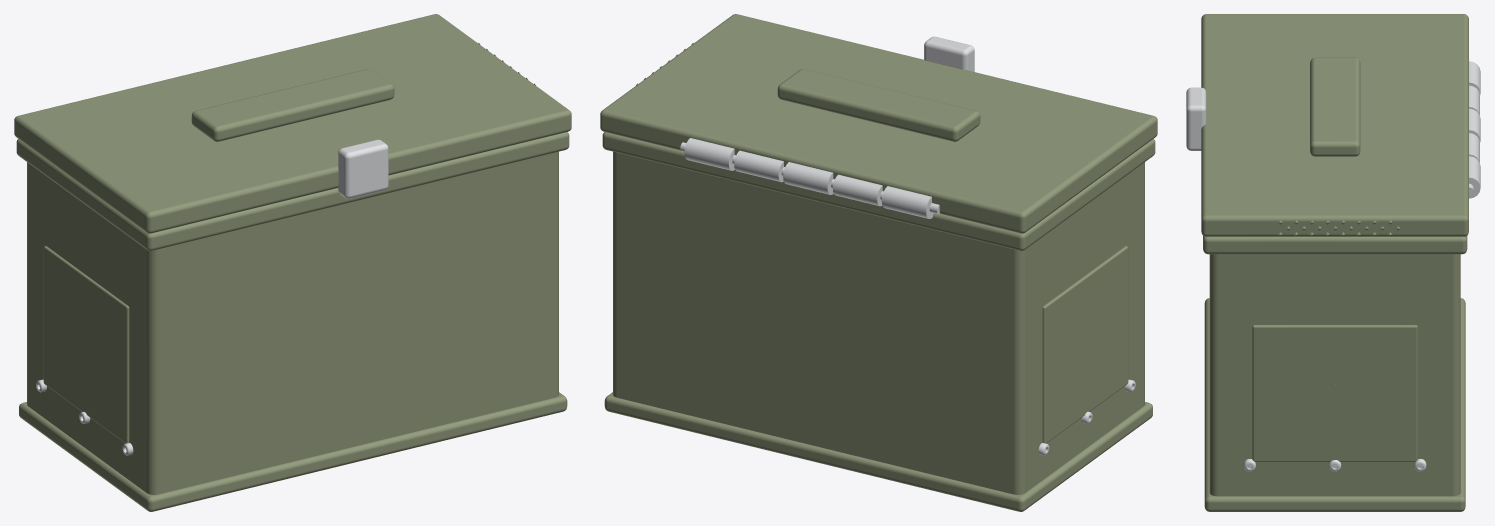
The model's file is mega-weapon-pack-rifle-ammo-box-2a33d364__33420.glb.
3 views of the same model, side by side, from view 1: azimuth 30°, elevation 25°; view 2: azimuth 150°, elevation 25°; view 3: azimuth 270°, elevation 25° (orthographic).
Parts seen in each view (by area): view 1: rifle-ammo-box, lid/paintOlive, lid/steelBright; view 2: rifle-ammo-box, lid/paintOlive, lid/steelBright; view 3: rifle-ammo-box, lid/paintOlive, lid/steelBright.
Part boxes in pixels (box(x1,y1,x2,y2)): rifle-ammo-box: box(16, 132, 569, 511); lid/paintOlive: box(14, 14, 571, 233); lid/steelBright: box(338, 139, 388, 198); rifle-ammo-box: box(602, 132, 1155, 511); lid/paintOlive: box(600, 14, 1157, 233); lid/steelBright: box(924, 36, 974, 71); rifle-ammo-box: box(1203, 61, 1480, 511); lid/paintOlive: box(1201, 14, 1468, 236); lid/steelBright: box(1186, 87, 1206, 150).
Size of the model in its own units: 0.2917 by 0.2085 by 0.176.
